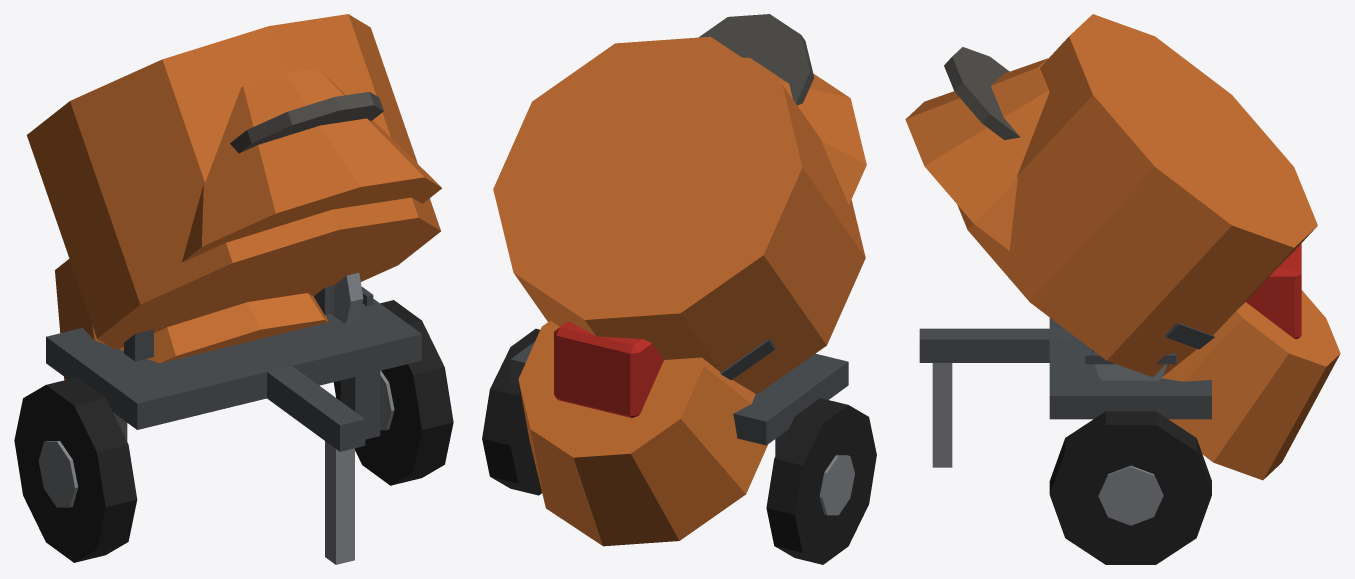
File: concrete_mixer.fbx
3 views of the same model, side by side, from view 1: azimuth 30°, elevation 25°; view 2: azimuth 150°, elevation 25°; view 3: azimuth 270°, elevation 25° (orthographic). The views are drawn at different scales.
Parts seen in each view (by area): view 1: concrete_mixer; view 2: concrete_mixer; view 3: concrete_mixer.
Boxes of the visible parts, box(x1,y1,x2,y2) form: concrete_mixer: box(14, 14, 453, 564); concrete_mixer: box(482, 14, 876, 564); concrete_mixer: box(905, 14, 1340, 564).
Bounding box in the file's own units: 1.12 × 1.54 × 1.34.
